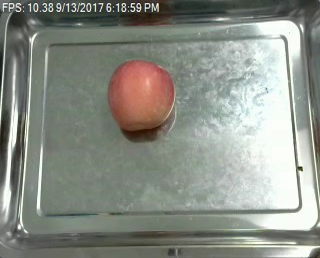Apple: (104, 55, 179, 137)
